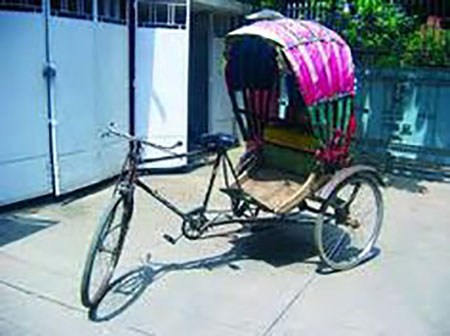Rickshaw: (88, 20, 379, 300)
